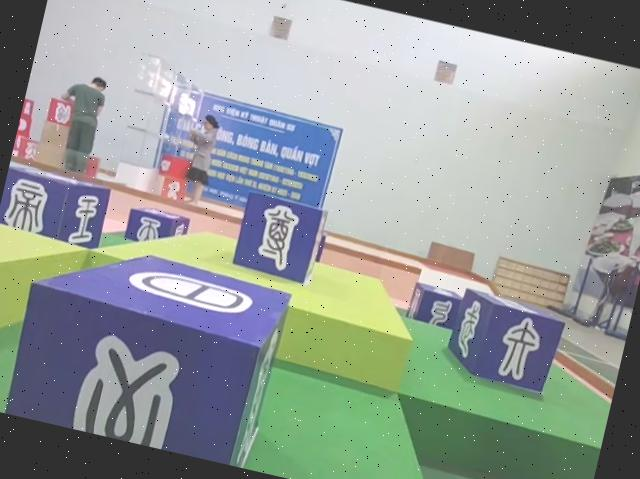R2 Fake Blue: (5, 224, 298, 471), (441, 284, 569, 395), (0, 162, 114, 252), (230, 191, 333, 290), (403, 279, 467, 332), (122, 203, 190, 252)
